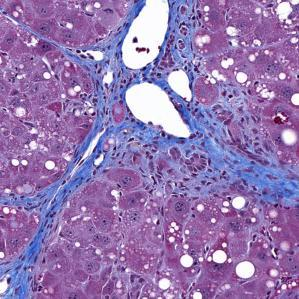fibrosis: (95, 130, 232, 196), (159, 13, 202, 87)
